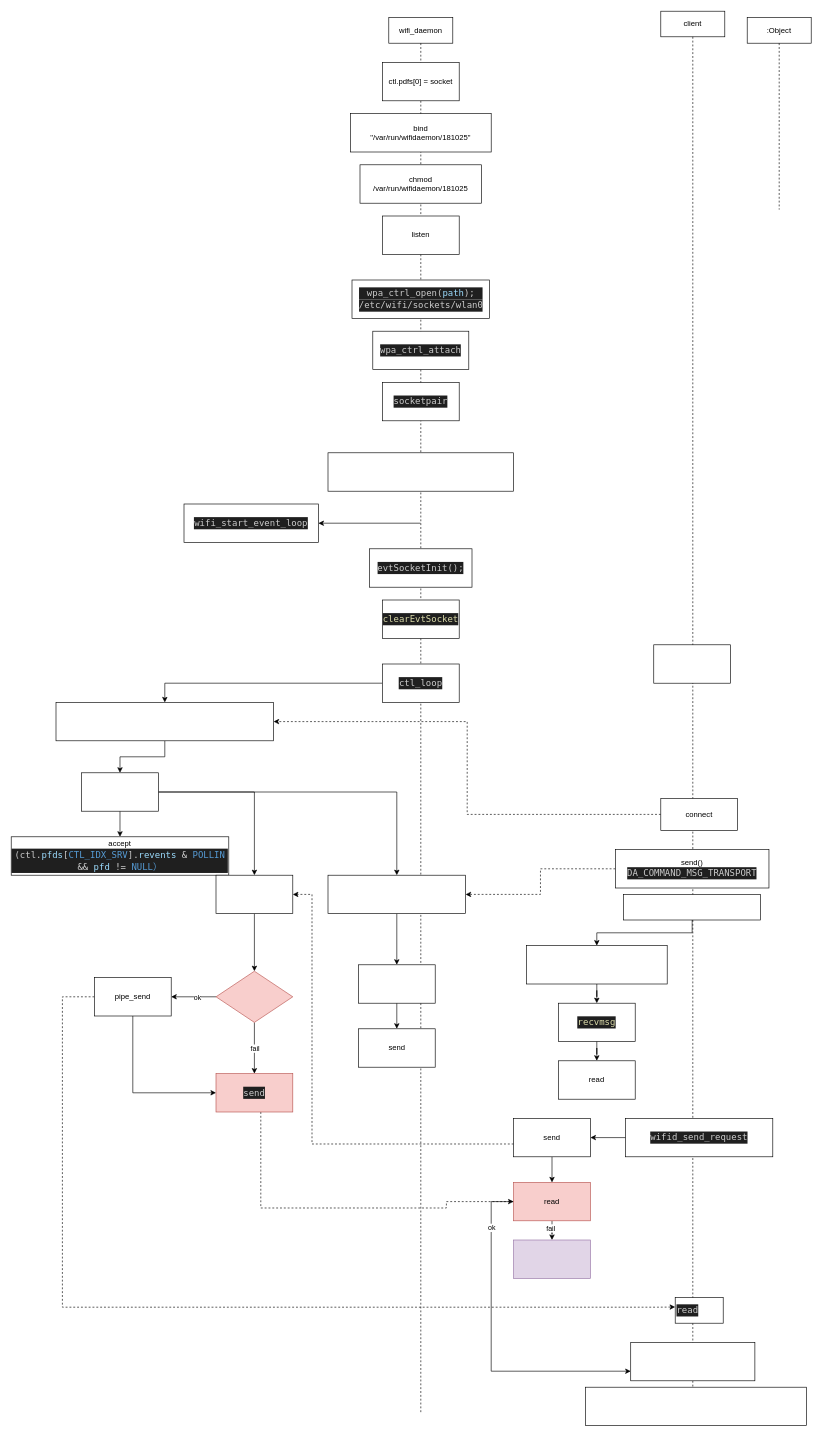
This 822x1437 diagram has some shape labels left out. Each missing label, with the centre of its shape:
aw_wifi_add_state_callback ( pcb );: point 420,471
ctl.fds[1] dispatch: point 119,791
DA_COMMAND_MSG_TRANSPORT: point 396,894
get_cmd_msg_transport: point 596,964
get_status: point 254,996
handle_command_free: point 695,1406
poll( ctl . pfds , ARRAYSIZE ( ctl . pfds ), - 1 ): point 164,721
read_command_message: point 692,1361
return -1: point 551,1258
sendmsg: point 396,983
socket: point 692,663
STATUS: point 254,894
wifi_connect_daemon: point 692,907
